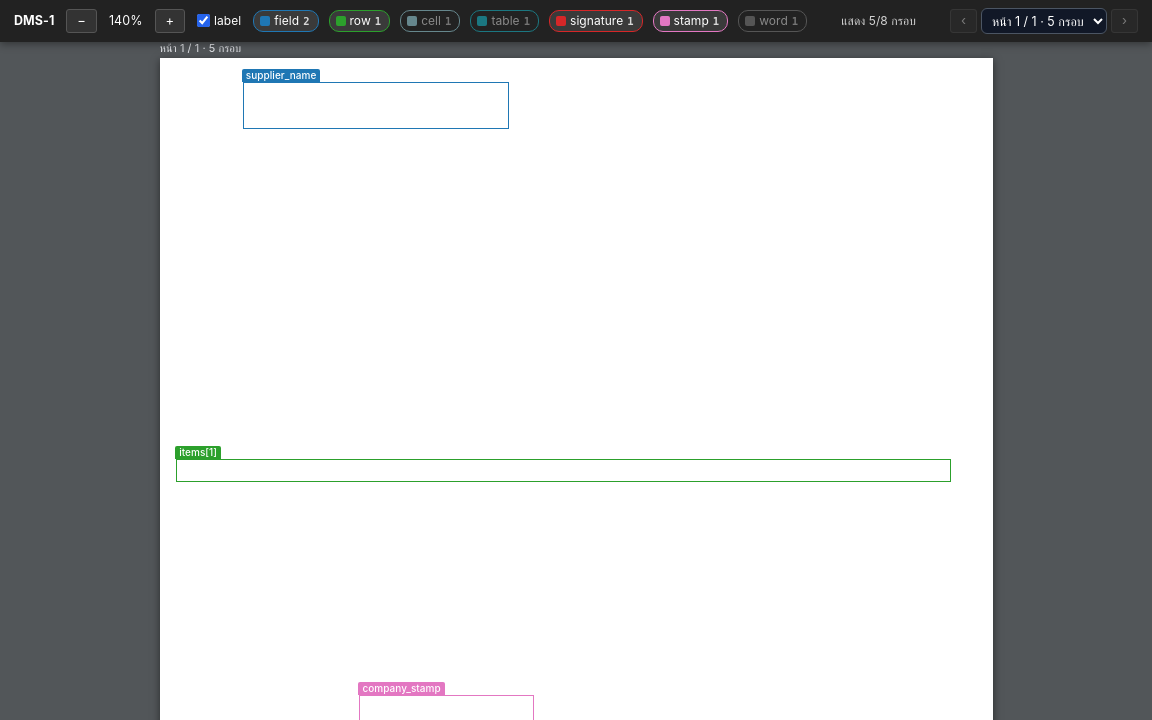
Test: StandaloneBBoxViewer v5.7 (element_type tags) › zoom and label switch still work
Click the button "+" at (170, 21), box x1=154 y1=9 x2=185 y2=33
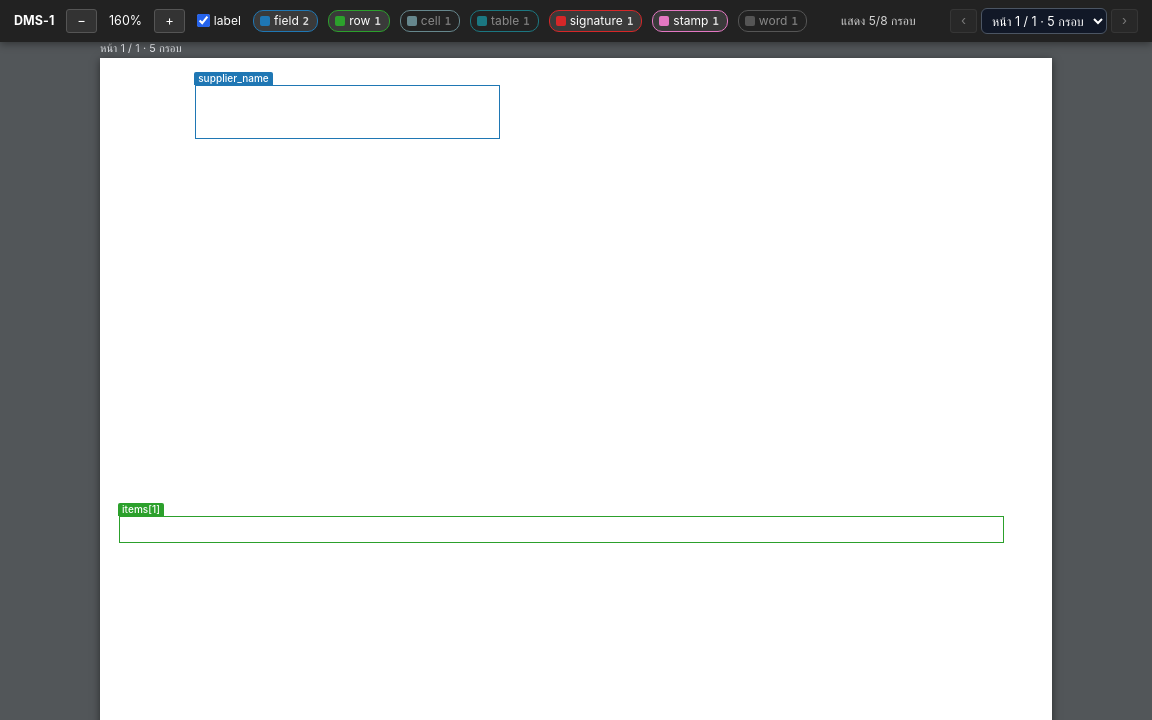
expect the text with test id "zoom-val" reads "160%": met, box x1=109 y1=12 x2=142 y2=30
Click the checkbox labelled "label" at (203, 21), box x1=197 y1=14 x2=210 y2=28
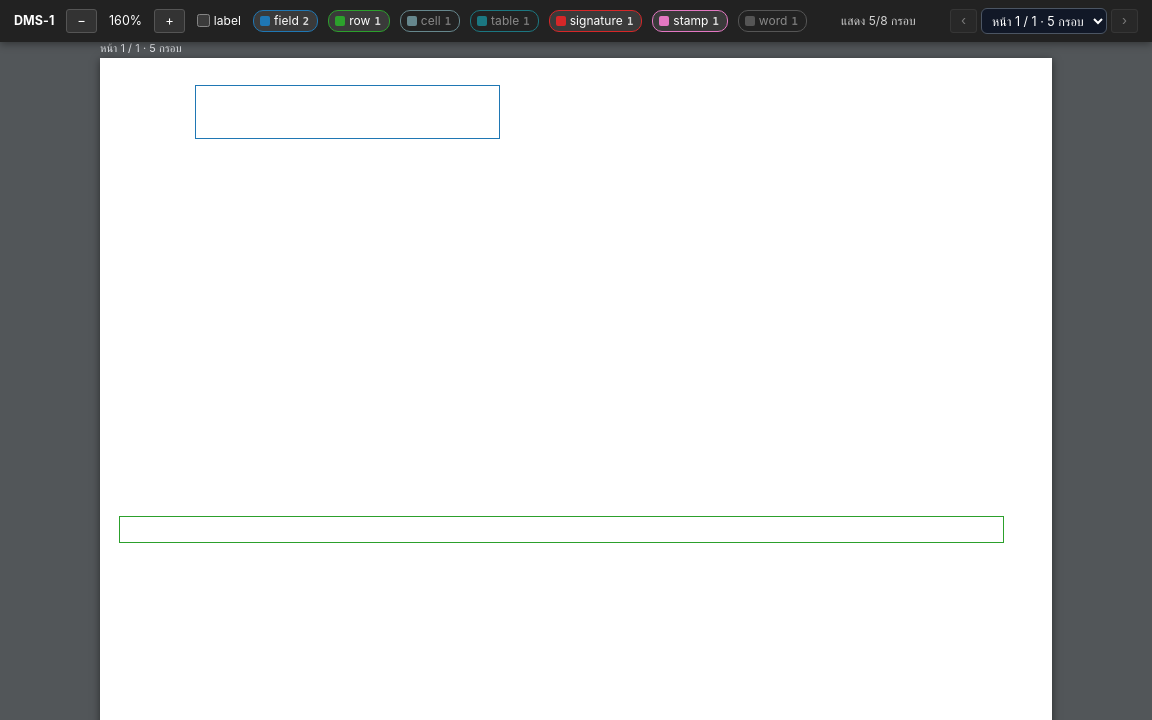
expect the element with class "hide-labels" is shown: met
